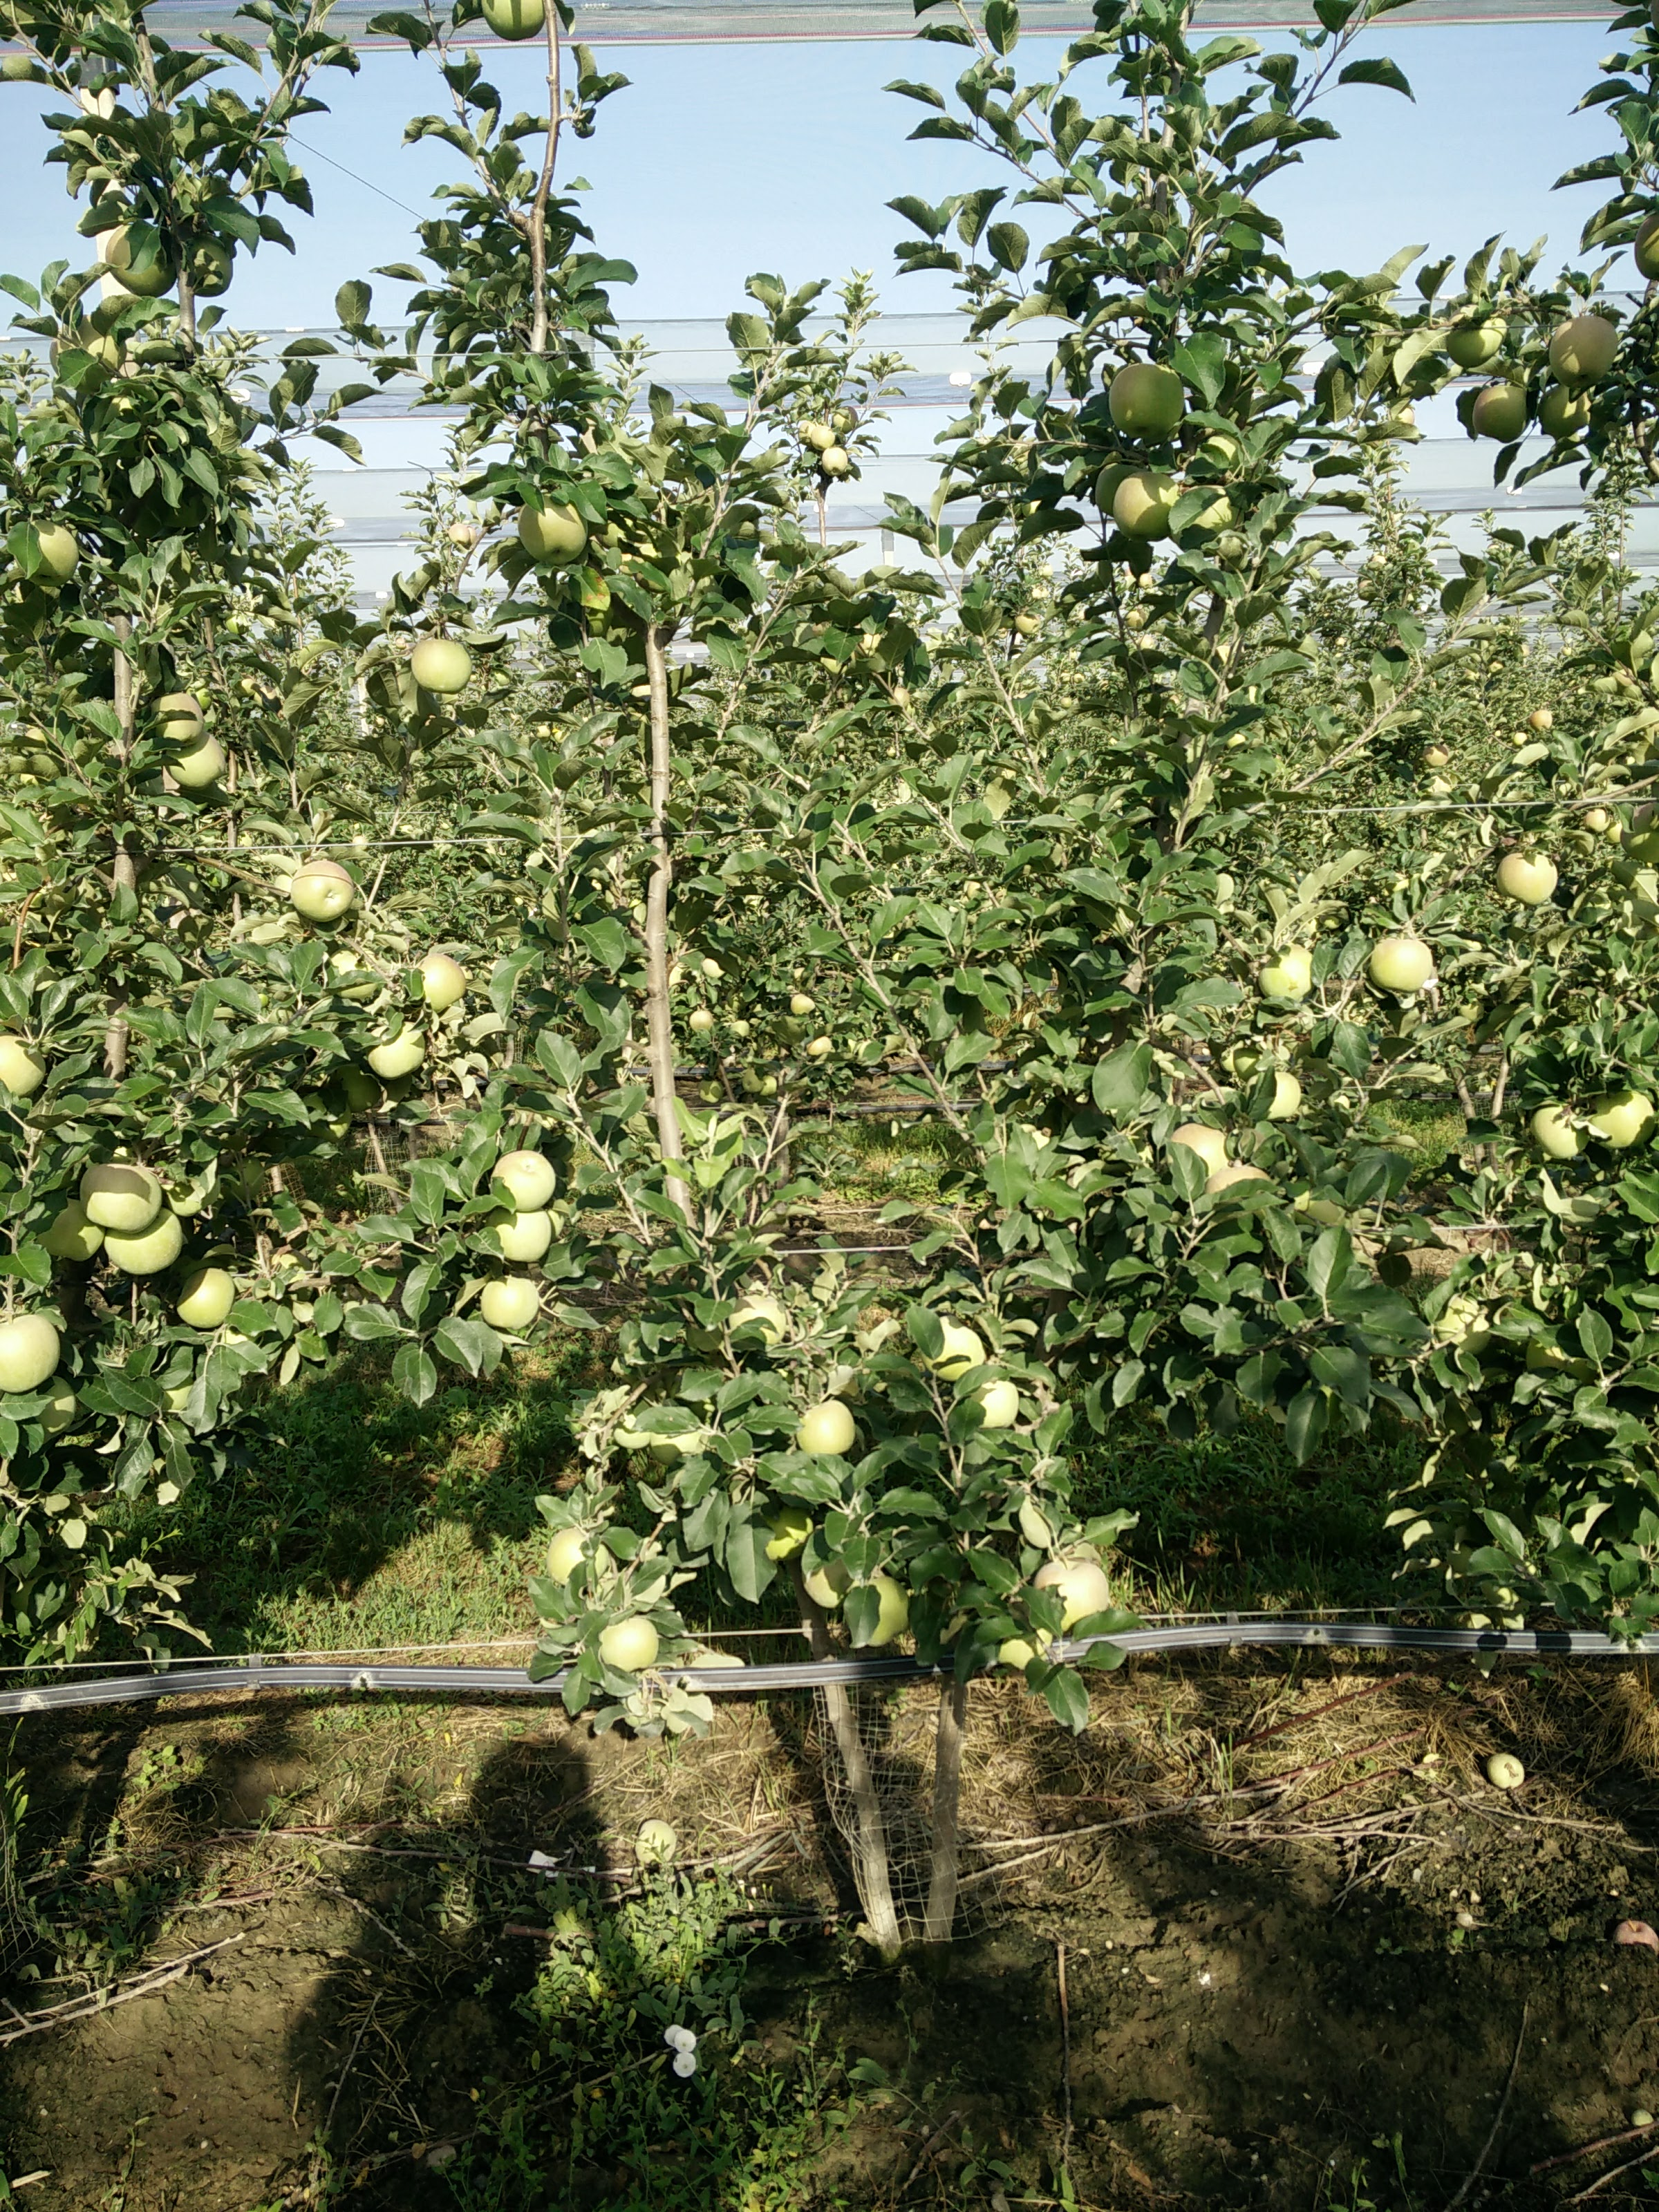apple: (1107, 460, 1192, 536), (1102, 365, 1188, 434), (1033, 1557, 1109, 1631), (106, 221, 181, 294), (515, 497, 592, 565), (1546, 314, 1623, 381), (78, 1163, 157, 1229), (102, 1210, 185, 1273), (1365, 929, 1440, 995), (489, 1200, 562, 1268), (10, 519, 86, 583), (405, 633, 478, 693), (1488, 848, 1565, 904), (407, 952, 472, 1017), (542, 1527, 612, 1589), (172, 1265, 239, 1328), (788, 1398, 856, 1457), (486, 1151, 555, 1211), (286, 859, 355, 918), (592, 1620, 663, 1674), (168, 729, 232, 787), (1474, 381, 1541, 435), (480, 1277, 541, 1329)
